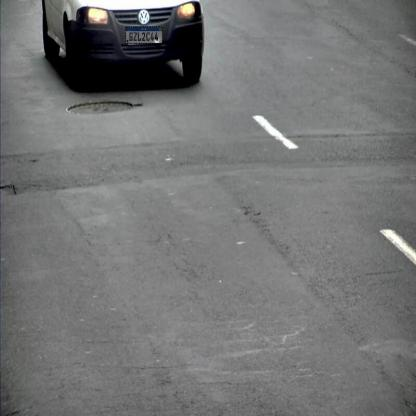PlacaM: (125, 26, 163, 44)
